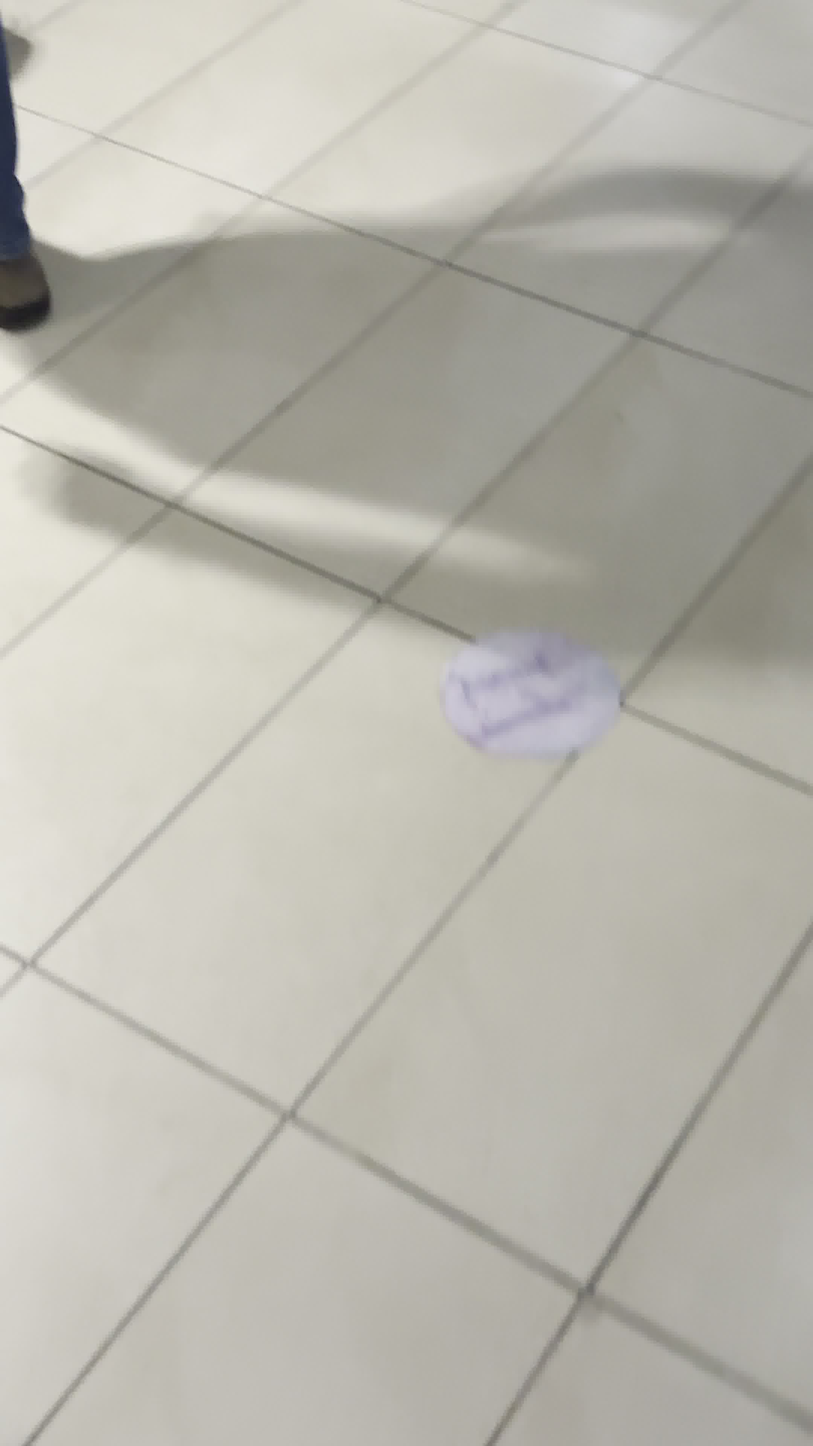Target: (441, 626, 623, 753)
